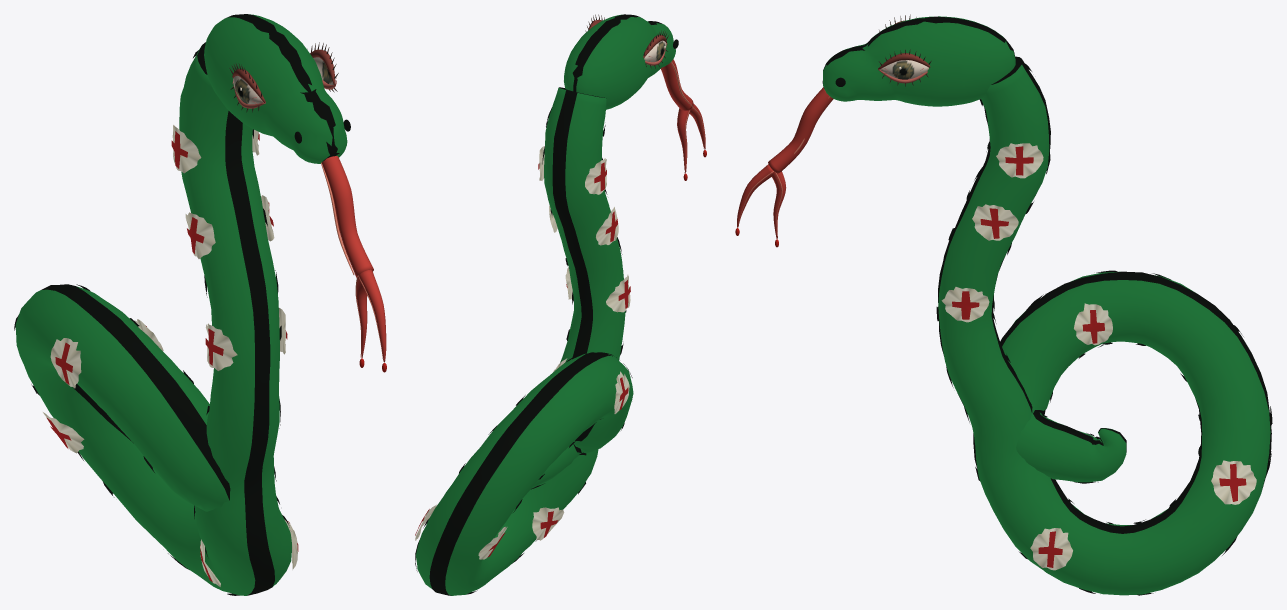
File: snake.glb
The picture shows the model from 3 angles, left to right: view 1: azimuth 30°, elevation 25°; view 2: azimuth 150°, elevation 25°; view 3: azimuth 270°, elevation 25°; orthographic projection. The views are drawn at different scales.
Parts seen in each view (by area): view 1: Snake_Game; view 2: Snake_Game; view 3: Snake_Game.
Boxes of the visible parts, x1=… form: Snake_Game: x1=14, y1=14, x2=386, y2=595; Snake_Game: x1=415, y1=14, x2=706, y2=595; Snake_Game: x1=735, y1=14, x2=1272, y2=595.
Bounding box in the file's own units: 1.89 × 5.49 × 4.9.
